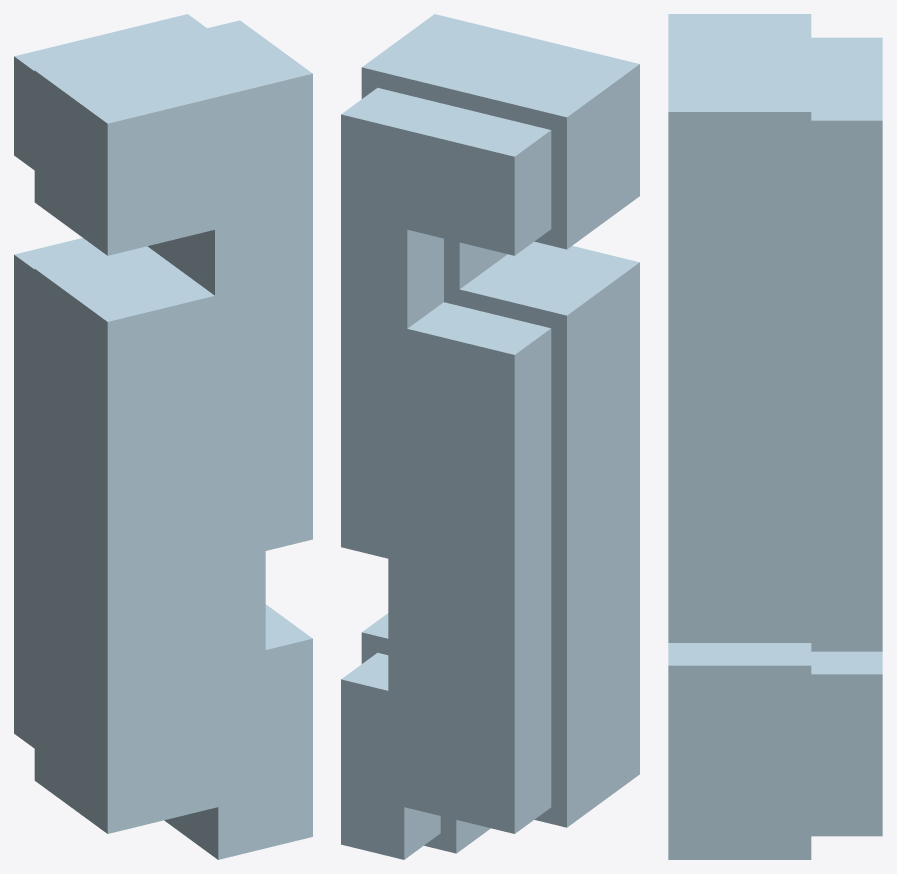
The model's file is cladire2.gltf.
The picture shows the model from 3 angles, left to right: view 1: azimuth 30°, elevation 25°; view 2: azimuth 150°, elevation 25°; view 3: azimuth 270°, elevation 25°; orthographic projection. The views are drawn at different scales.
Visible parts, largest first — view 1: mesh17_meshnode_17, mesh21_meshnode_21, mesh30_meshnode_30, mesh4_meshnode_4, mesh16_meshnode_16, mesh20_meshnode_20, mesh14_meshnode_14, mesh19_meshnode_19, mesh0_meshnode_0, mesh23_meshnode_23, mesh3_meshnode_3, mesh26_meshnode_26; view 2: mesh11_meshnode_11, mesh21_meshnode_21, mesh4_meshnode_4, mesh15_meshnode_15, mesh30_meshnode_30, mesh16_meshnode_16, mesh20_meshnode_20, mesh14_meshnode_14, mesh3_meshnode_3, mesh0_meshnode_0, mesh2_meshnode_2, mesh6_meshnode_6 (+3 smaller); view 3: mesh29_meshnode_29, mesh13_meshnode_13, mesh25_meshnode_25, mesh30_meshnode_30, mesh8_meshnode_8, mesh27_meshnode_27, mesh10_meshnode_10, mesh14_meshnode_14, mesh26_meshnode_26, mesh9_meshnode_9.
Part boxes in pixels (left/top/right/bottom): mesh17_meshnode_17: left=107, top=73, right=312, bottom=859; mesh21_meshnode_21: left=34, top=269, right=107, bottom=833; mesh30_meshnode_30: left=35, top=20, right=312, bottom=123; mesh4_meshnode_4: left=14, top=255, right=34, bottom=748; mesh16_meshnode_16: left=34, top=70, right=107, bottom=255; mesh20_meshnode_20: left=35, top=246, right=214, bottom=321; mesh14_meshnode_14: left=14, top=14, right=206, bottom=70; mesh19_meshnode_19: left=147, top=230, right=214, bottom=295; mesh0_meshnode_0: left=14, top=56, right=34, bottom=170; mesh23_meshnode_23: left=164, top=807, right=218, bottom=859; mesh3_meshnode_3: left=14, top=238, right=101, bottom=269; mesh26_meshnode_26: left=265, top=604, right=312, bottom=649; mesh11_meshnode_11: left=341, top=114, right=514, bottom=859; mesh21_meshnode_21: left=567, top=262, right=639, bottom=827; mesh4_meshnode_4: left=514, top=328, right=551, bottom=833; mesh15_meshnode_15: left=361, top=67, right=566, bottom=853; mesh30_meshnode_30: left=362, top=14, right=639, bottom=117; mesh16_meshnode_16: left=567, top=64, right=639, bottom=249; mesh20_meshnode_20: left=460, top=241, right=639, bottom=315; mesh14_meshnode_14: left=341, top=87, right=550, bottom=156; mesh3_meshnode_3: left=407, top=302, right=550, bottom=354; mesh0_meshnode_0: left=514, top=130, right=551, bottom=255; mesh2_meshnode_2: left=407, top=229, right=443, bottom=328; mesh6_meshnode_6: left=404, top=807, right=440, bottom=859; mesh29_meshnode_29: left=668, top=112, right=811, bottom=568; mesh13_meshnode_13: left=811, top=120, right=882, bottom=544; mesh25_meshnode_25: left=668, top=665, right=811, bottom=859; mesh30_meshnode_30: left=668, top=14, right=811, bottom=111; mesh8_meshnode_8: left=811, top=674, right=882, bottom=836; mesh27_meshnode_27: left=668, top=568, right=811, bottom=642; mesh10_meshnode_10: left=811, top=545, right=882, bottom=651; mesh14_meshnode_14: left=811, top=37, right=882, bottom=120; mesh26_meshnode_26: left=668, top=643, right=811, bottom=665; mesh9_meshnode_9: left=811, top=651, right=882, bottom=674.
Bounding box in the file's own units: 0.065 × 0.231 × 0.06.
